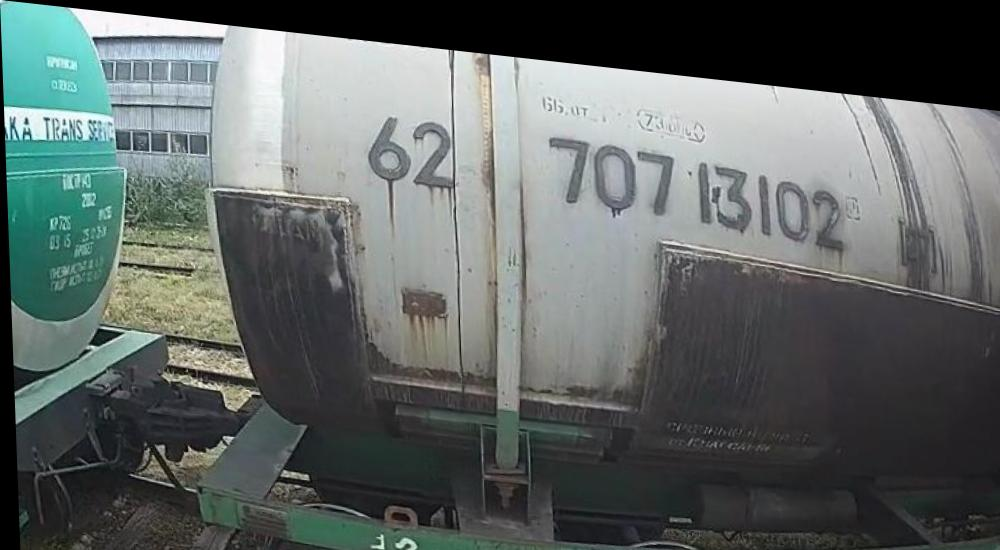Wagon-number: (544, 117, 846, 235)
